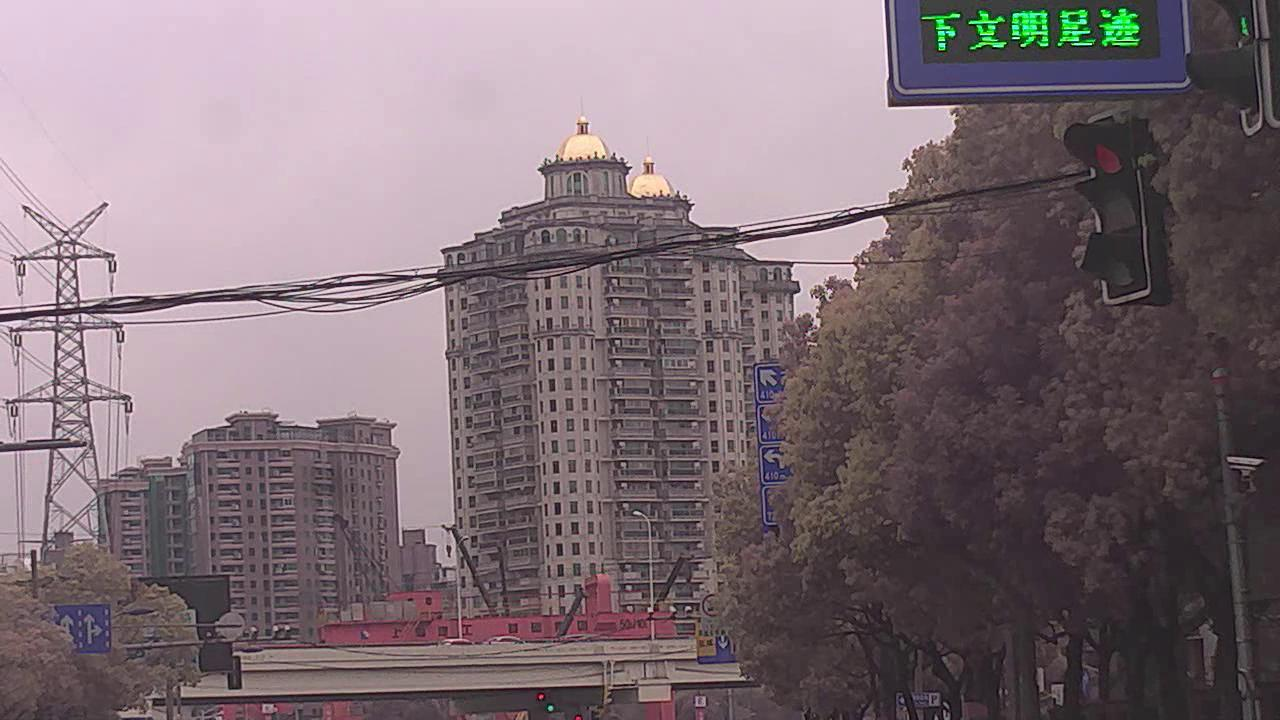traffic_light: (1081, 115, 1141, 306)
